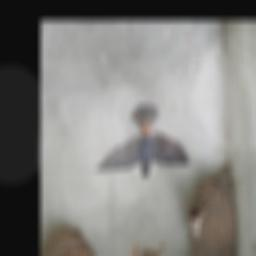Swallow: (93, 103, 190, 180)
